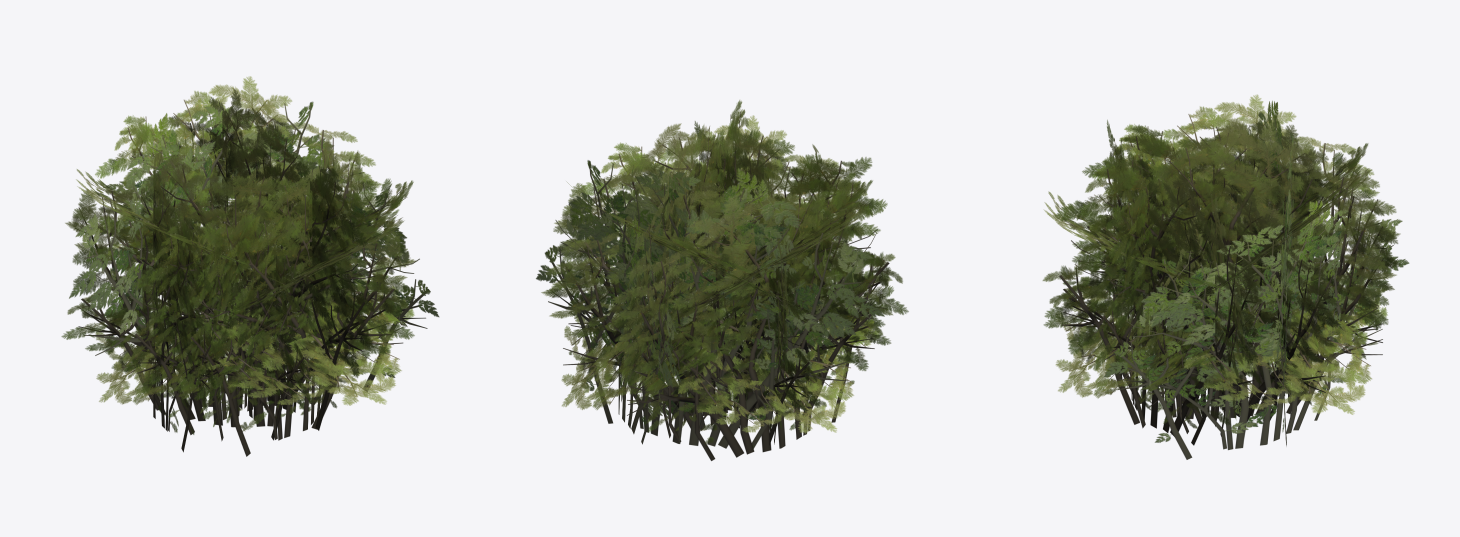
File: Bush3.gltf
3 views of the same model, side by side, from view 1: azimuth 30°, elevation 25°; view 2: azimuth 150°, elevation 25°; view 3: azimuth 270°, elevation 25° (orthographic).
Parts seen in each view (by area): view 1: Bush-03_15; view 2: Bush-03_15; view 3: Bush-03_15.
Part boxes in pixels (left/top/right/bottom): Bush-03_15: left=61, top=76, right=439, bottom=456; Bush-03_15: left=536, top=100, right=908, bottom=460; Bush-03_15: left=1042, top=94, right=1409, bottom=459.
Bounding box in the file's own units: 35.17 × 30.66 × 36.79.
Materials: 3 (3 with a texture image).
